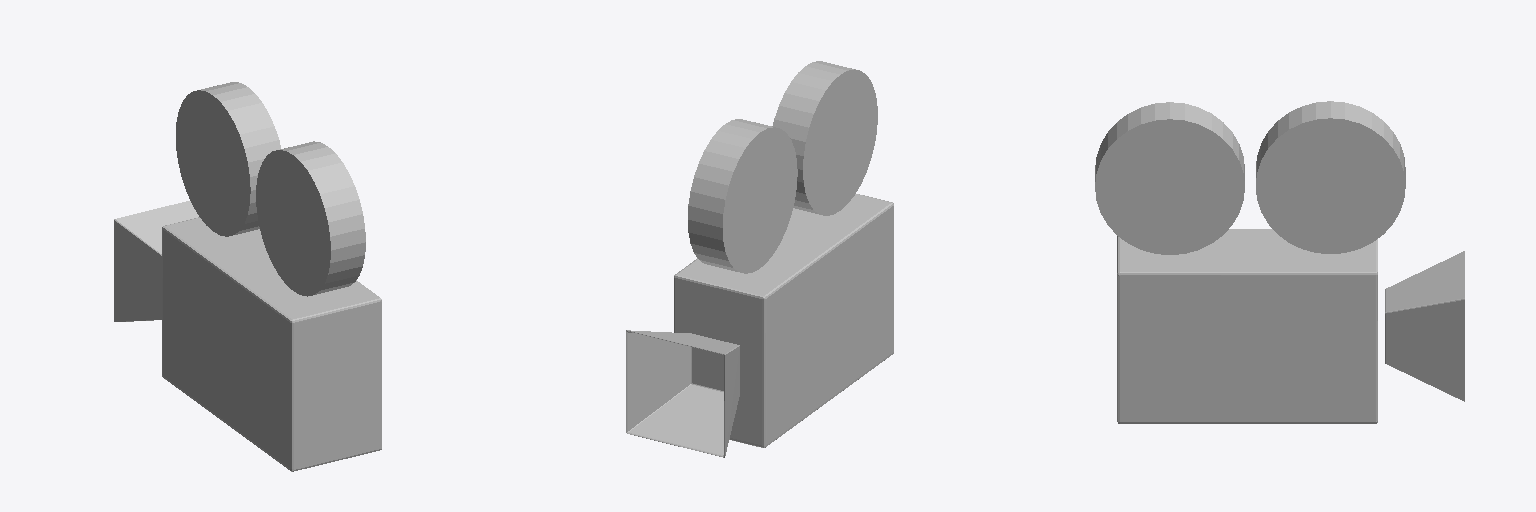
File: camera2.obj
The picture shows the model from 3 angles: view 1: azimuth 30°, elevation 25°; view 2: azimuth 150°, elevation 25°; view 3: azimuth 270°, elevation 25°; orthographic projection.
Parts seen in each view (by area): view 1: Body, Spool2, Spool1, Hood; view 2: Body, Spool1, Hood, Spool2; view 3: Body, Spool1, Spool2, Hood.
Boxes of the visible parts, x1=… form: Body: x1=162, y1=217, x2=381, y2=471; Spool2: x1=256, y1=141, x2=365, y2=296; Spool1: x1=176, y1=82, x2=280, y2=236; Hood: x1=114, y1=201, x2=198, y2=321; Body: x1=674, y1=194, x2=893, y2=447; Spool1: x1=688, y1=119, x2=797, y2=273; Hood: x1=626, y1=330, x2=739, y2=457; Spool2: x1=772, y1=61, x2=877, y2=215; Body: x1=1117, y1=229, x2=1377, y2=423; Spool1: x1=1256, y1=101, x2=1405, y2=253; Spool2: x1=1095, y1=102, x2=1244, y2=254; Hood: x1=1385, y1=251, x2=1464, y2=401.
Bounding box in the file's own units: 1.09 × 3.08 × 3.53.